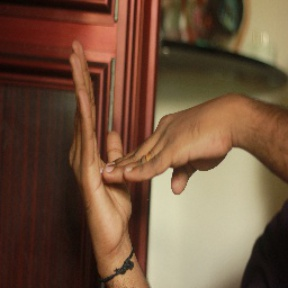Z: (55, 36, 234, 244)
